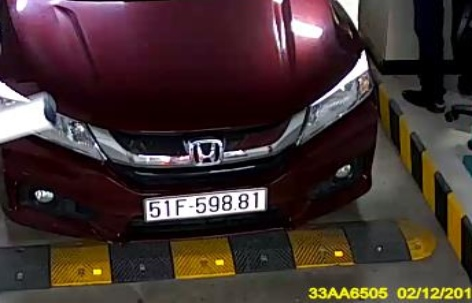plate: (138, 188, 277, 218)
